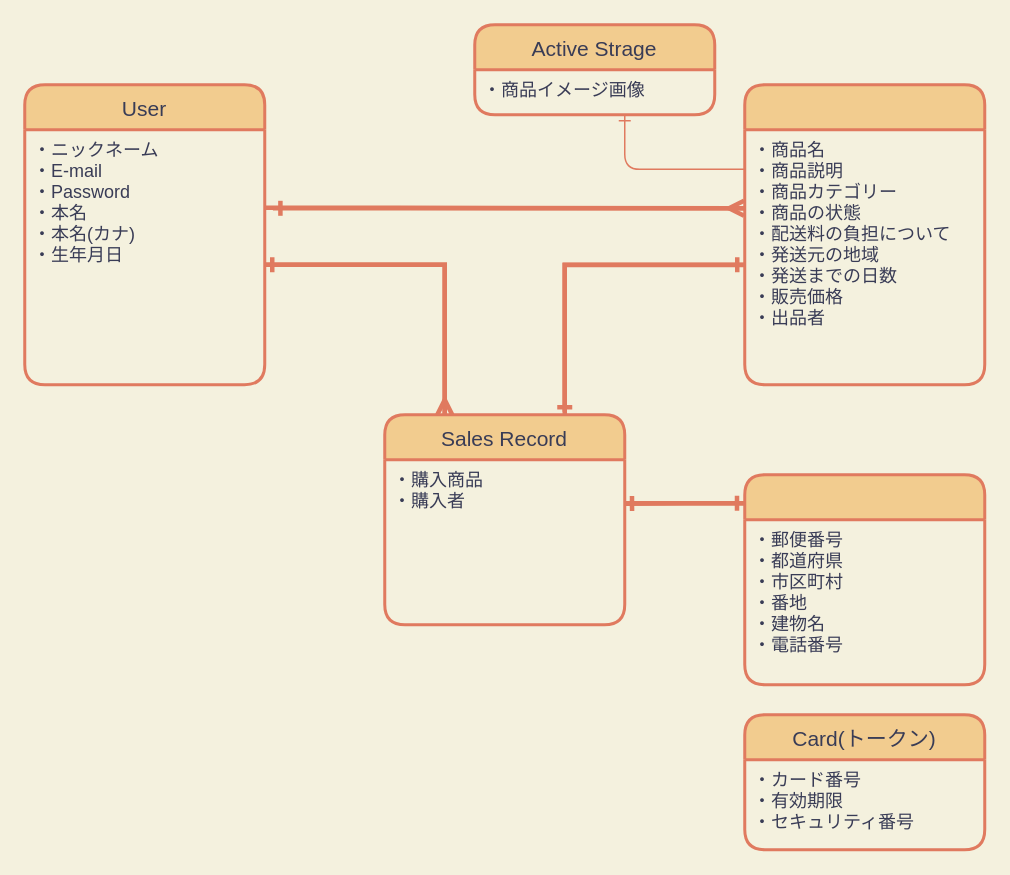
This 1010x875 diagram has some shape labels left out. Here are the shapes that lost their labels. From the top down, the box of each, then its label:
(742, 82, 986, 386): Item
(742, 472, 986, 686): Address
